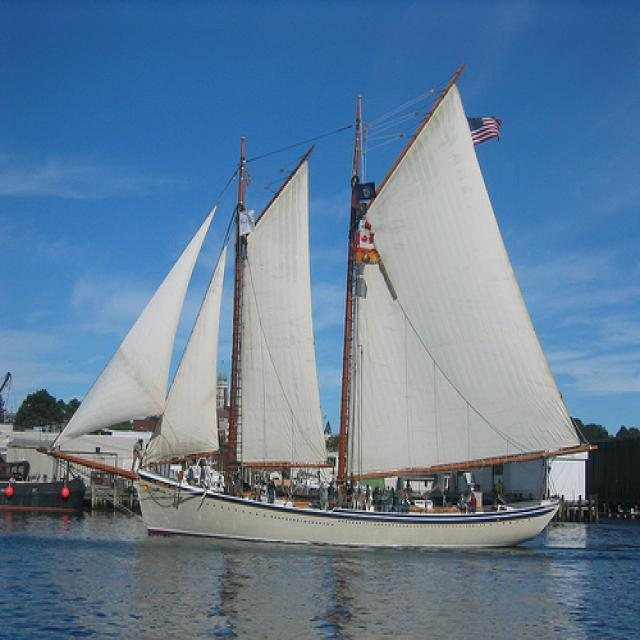Ship: (48, 70, 598, 564)
